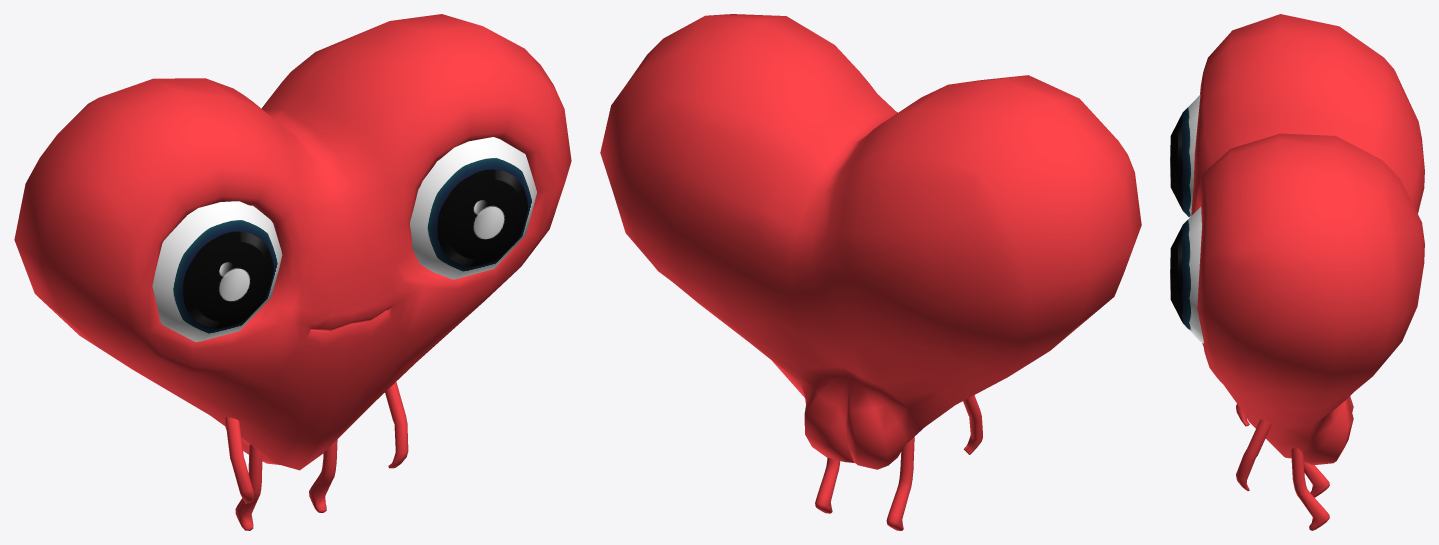
The model's file is Heart.gltf.
3 views of the same model, side by side, from view 1: azimuth 30°, elevation 25°; view 2: azimuth 150°, elevation 25°; view 3: azimuth 270°, elevation 25° (orthographic). The views are drawn at different scales.
Parts seen in each view (by area): view 1: body, Leye, Reye, hands, legs; view 2: body, legs, hands; view 3: body, Reye, Leye, legs, hands.
Boxes of the visible parts, box(x1,y1,x2,y2) form: body: box(14, 14, 571, 470); Leye: box(152, 201, 282, 341); Reye: box(410, 137, 536, 279); hands: box(225, 382, 408, 504); legs: box(235, 439, 337, 530); body: box(600, 14, 1141, 469); legs: box(815, 437, 914, 530); hands: box(963, 395, 982, 454); body: box(1191, 14, 1424, 465); Reye: box(1170, 207, 1203, 343); Leye: box(1170, 94, 1200, 217); legs: box(1291, 448, 1329, 530); hands: box(1236, 404, 1271, 491).
Size of the model in its own units: 2.18 by 1.89 by 1.02.
Materials: 2 (1 with a texture image).
